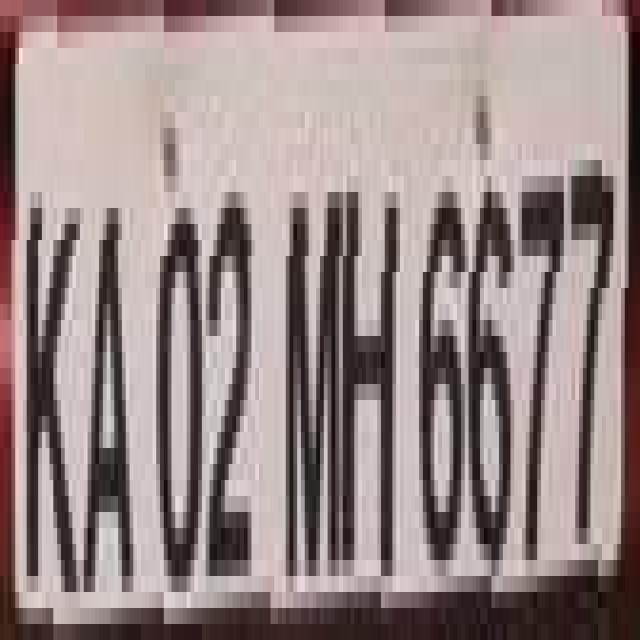license_plate: (4, 0, 606, 640)
